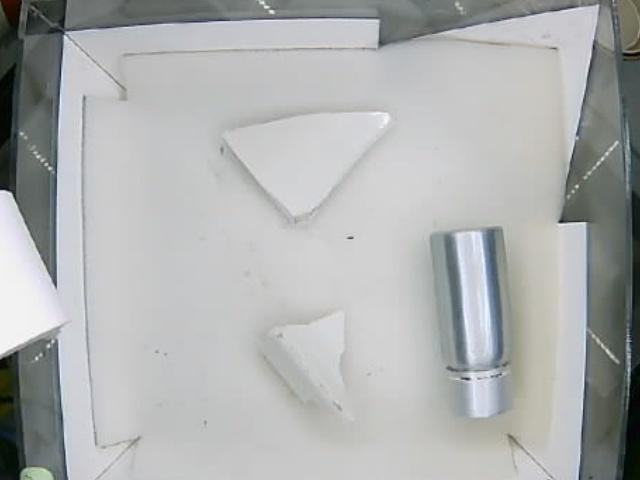Bottle: (432, 227, 512, 420)
China: (228, 111, 396, 219), (266, 305, 358, 423)
